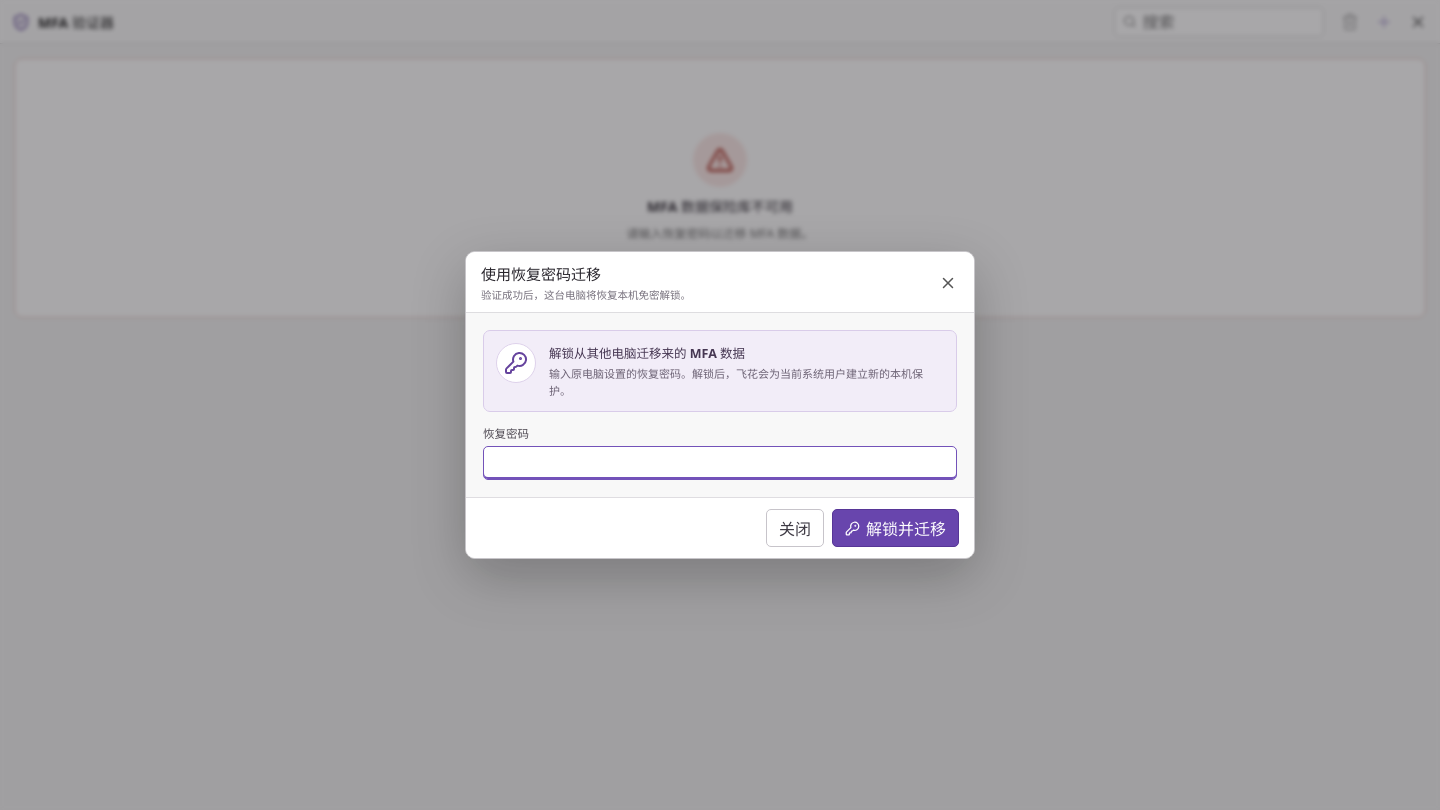
Test: MfaTool › unlocks migrated MFA data with one recovery-password field
In the password field labelled "恢复密码": (720, 463) 483,446 -> 957,480, type "correct horse battery"
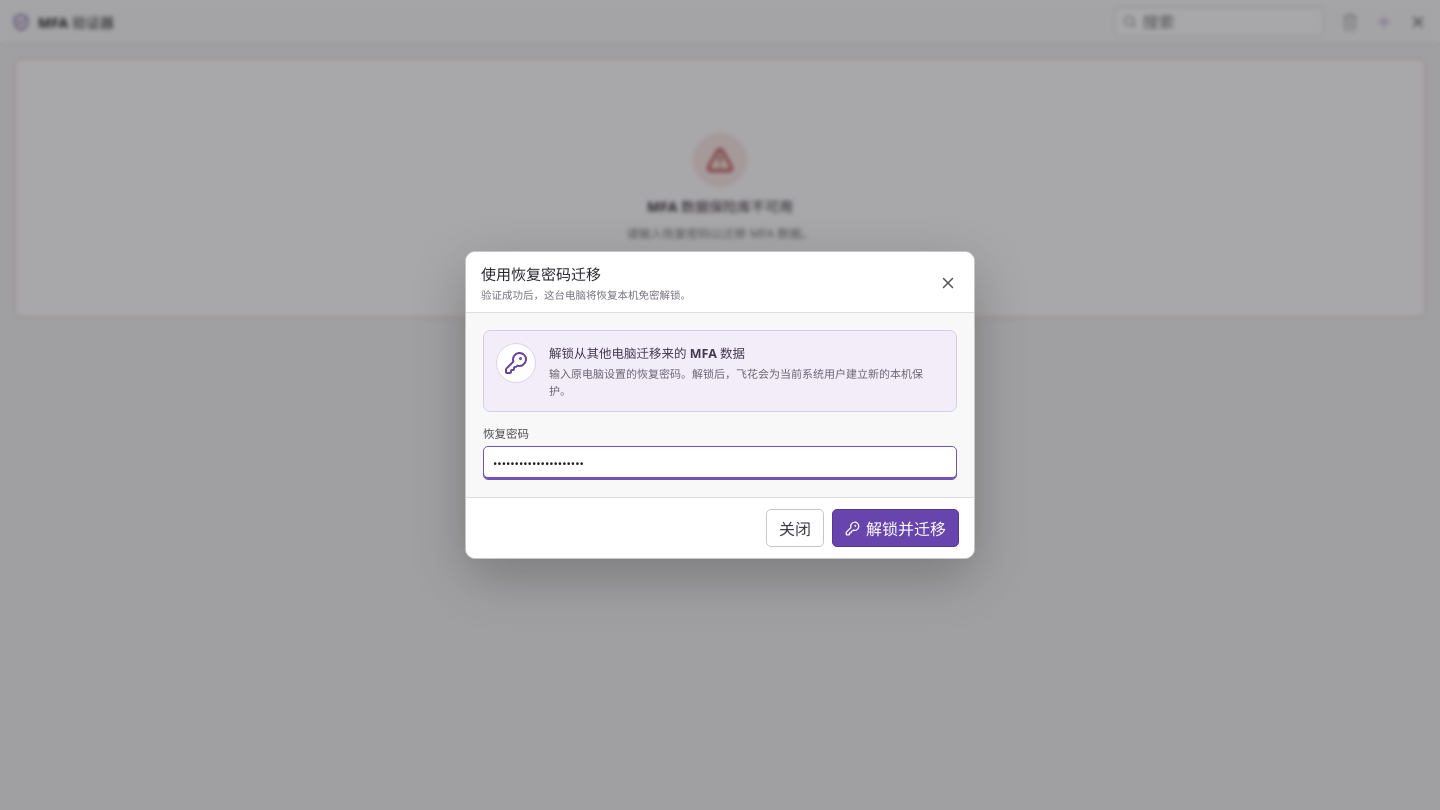
Click the button "解锁并迁移": (896, 528) 832,509 -> 959,547
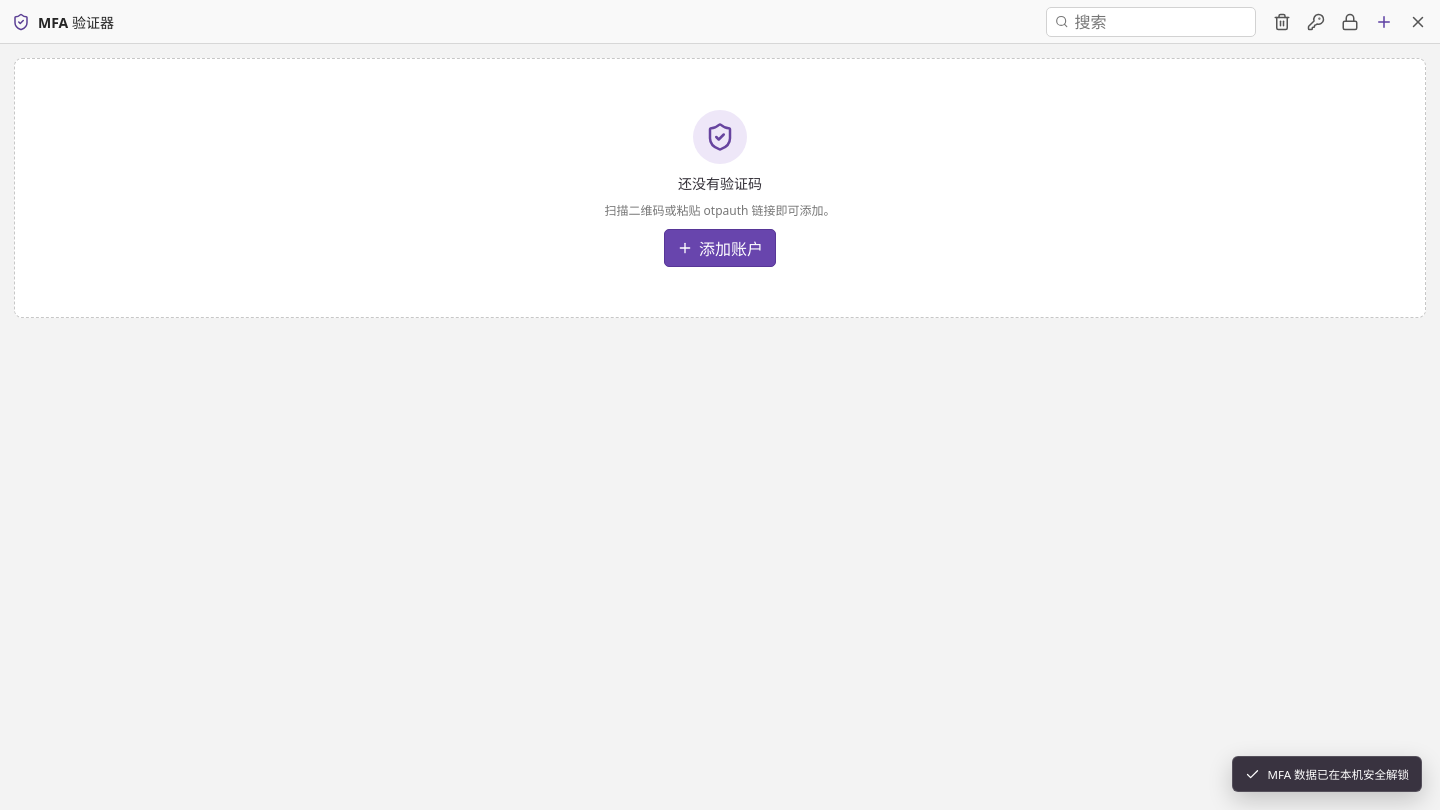
Now the heading "使用恢复密码迁移" is gone
